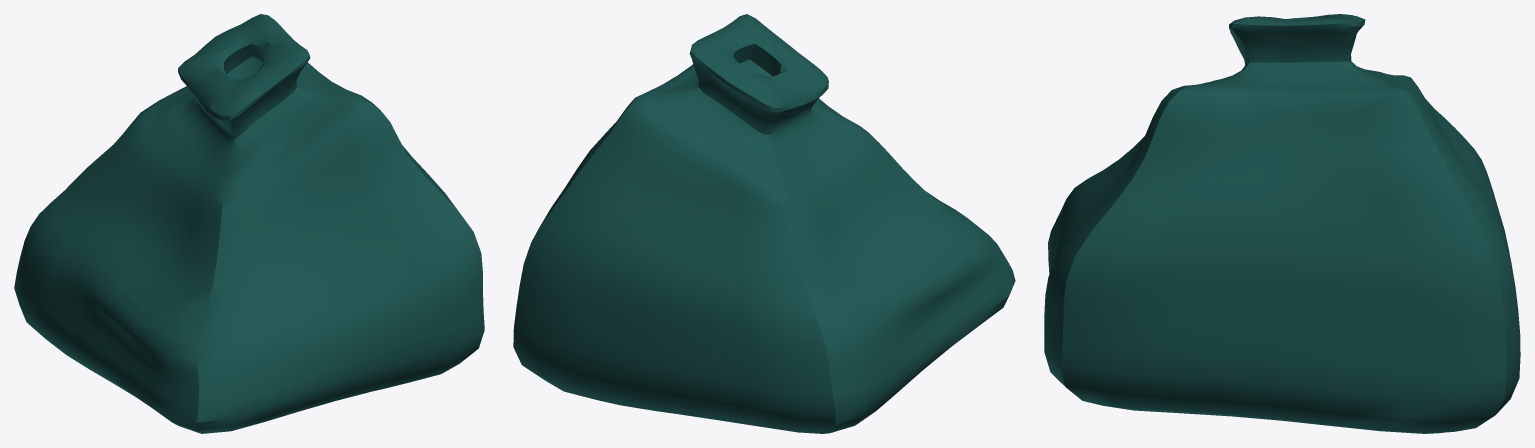
Rendered from TrashBag.fbx.
The picture shows the model from 3 angles, left to right: view 1: azimuth 30°, elevation 25°; view 2: azimuth 150°, elevation 25°; view 3: azimuth 270°, elevation 25°; orthographic projection. The views are drawn at different scales.
Visible parts, largest first — view 1: TrashBag; view 2: TrashBag; view 3: TrashBag.
Boxes of the visible parts, x1,y1,x2,y2 form: TrashBag: (14, 14, 484, 433); TrashBag: (513, 14, 1015, 433); TrashBag: (1044, 14, 1520, 433).
Size of the model in its own units: 81.79 by 77.85 by 89.53.
